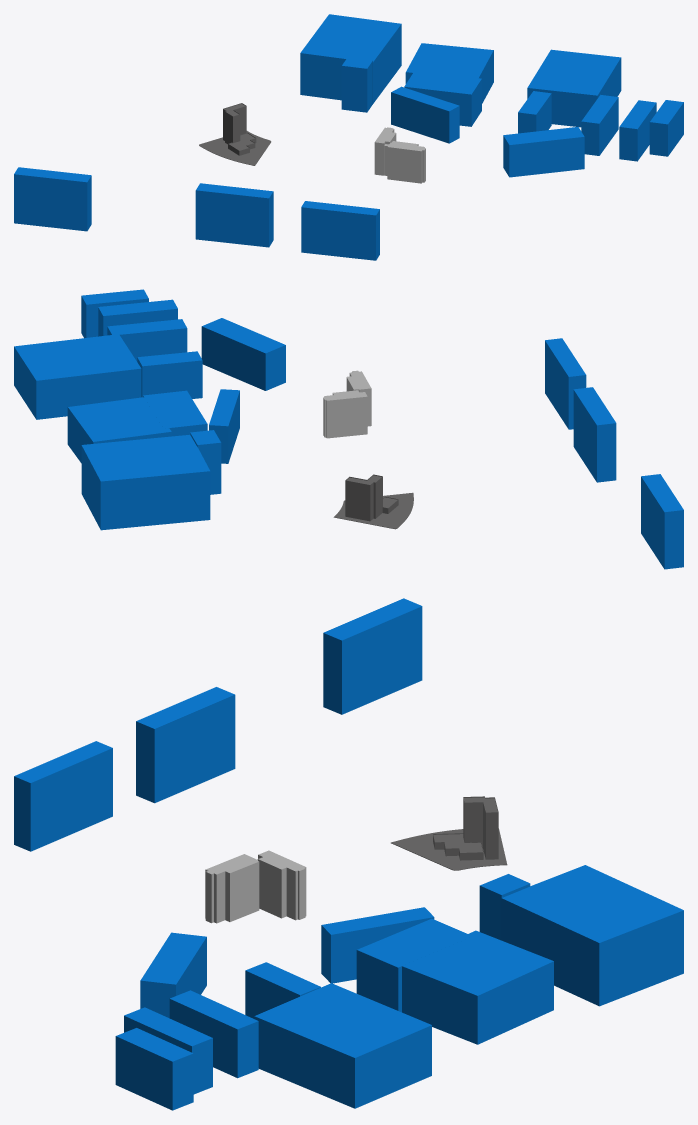
Rendered from Coral2_Dummys_Loc.fbx.
3 renders of one model, top to bottom at view 1: azimuth 30°, elevation 25°; view 2: azimuth 150°, elevation 25°; view 3: azimuth 270°, elevation 25°, orthographic. The views are drawn at different scales.
Parts seen in each view (by area): view 1: Cube__15_, Cube__8_, Cube__18_, Cube__19_, Cube__9_, Cube__3_, Cube__11_, Cube__17_, Cube__12_, AMA0020_Coral_ll_Topografia_Vias_Volumenes, Cube__5_, Cube__14_ (+5 smaller); view 2: Cube__15_, Cube__8_, Cube__3_, Cube__17_, Cube__18_, Cube__19_, AMA0020_Coral_ll_Topografia_Vias_Volumenes, Cube__4_, Cube__9_, Cube__5_, Cube__12_, Cube__6_ (+6 smaller); view 3: Cube__15_, Cube__8_, Cube__17_, Cube__18_, Cube__19_, Cube__9_, Cube__16_, Cube__12_, AMA0020_Coral_ll_Topografia_Vias_Volumenes, Cube__5_, Cube__3_, Cube__11_ (+7 smaller).
Boxes of the visible parts, x1,y1,x2,y2 form: Cube__15_: (300, 14, 401, 104); Cube__8_: (527, 49, 621, 127); Cube__18_: (195, 183, 273, 247); Cube__19_: (14, 167, 91, 231); Cube__9_: (301, 201, 379, 260); Cube__3_: (503, 127, 584, 177); Cube__11_: (391, 86, 459, 143); Cube__17_: (405, 43, 493, 103); Cube__12_: (404, 71, 481, 126); AMA0020_Coral_ll_Topografia_Vias_Volumenes: (199, 103, 271, 165); Cube__5_: (581, 94, 618, 155); Cube__14_: (341, 57, 372, 112); Cube__15_: (81, 434, 210, 530); Cube__8_: (14, 334, 141, 419); Cube__3_: (201, 318, 285, 390); Cube__17_: (67, 397, 171, 463); Cube__18_: (573, 387, 616, 482); Cube__19_: (641, 474, 683, 569); AMA0020_Coral_ll_Topografia_Vias_Volumenes: (333, 474, 413, 529); Cube__4_: (137, 351, 202, 398); Cube__9_: (545, 338, 586, 429); Cube__5_: (107, 319, 187, 361); Cube__12_: (143, 390, 207, 436); Cube__6_: (98, 299, 177, 336); Cube__15_: (500, 865, 683, 1006); Cube__8_: (254, 983, 431, 1108); Cube__17_: (402, 930, 553, 1044); Cube__18_: (136, 687, 235, 803); Cube__19_: (323, 598, 422, 714); Cube__9_: (14, 741, 112, 851); Cube__16_: (115, 1028, 193, 1110); Cube__12_: (356, 918, 472, 1012); AMA0020_Coral_ll_Topografia_Vias_Volumenes: (391, 796, 507, 870); Cube__5_: (169, 990, 258, 1078); Cube__3_: (140, 932, 206, 1018); Cube__11_: (321, 907, 434, 983).
Bounding box in the file's own units: 81489 × 6450 × 52676.
